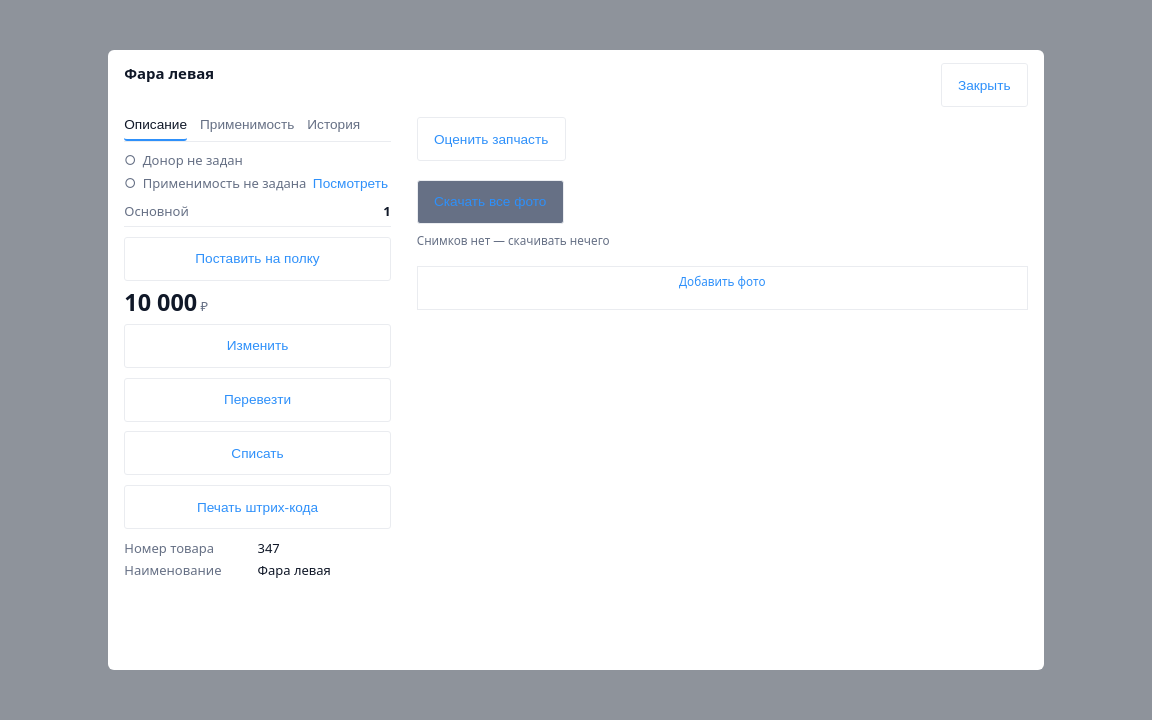
«Движение товара» и удаление документа › карточка: «Удалить» в «Движении товара» зовёт сервер, лента перечитывается, итог назван
Click the button "История" at (334, 129), box 307,117 -> 360,141
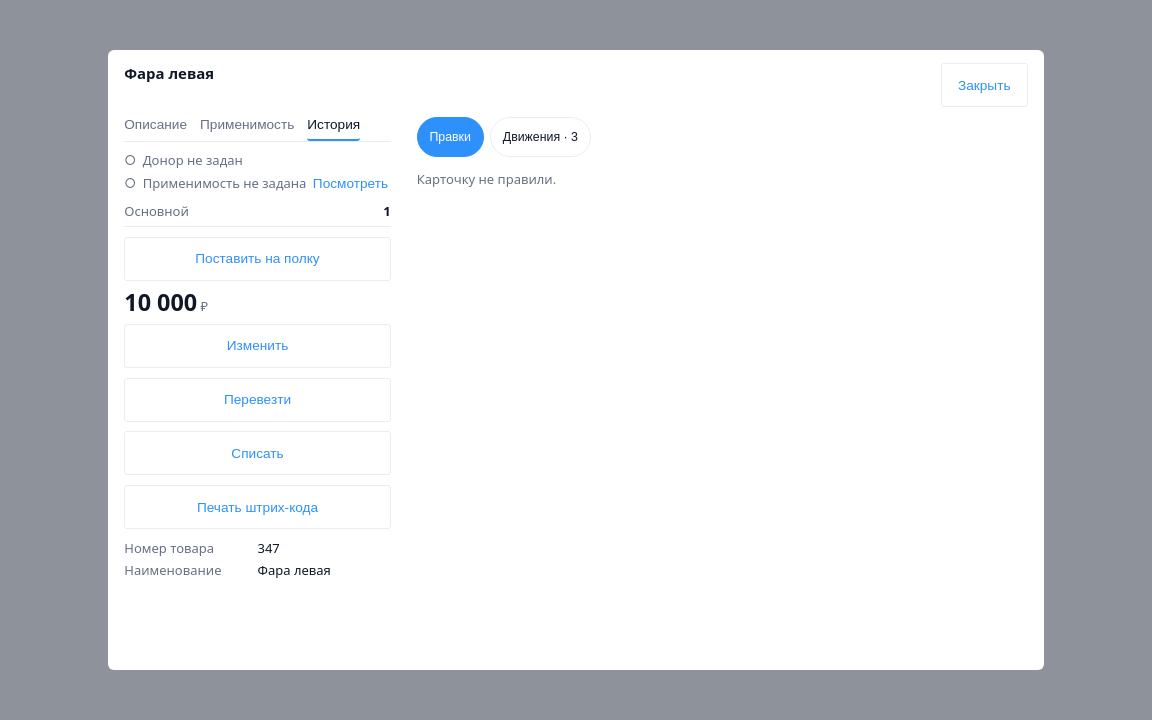
Click the button "Движения · 3" at (540, 137), box 490,117 -> 591,157
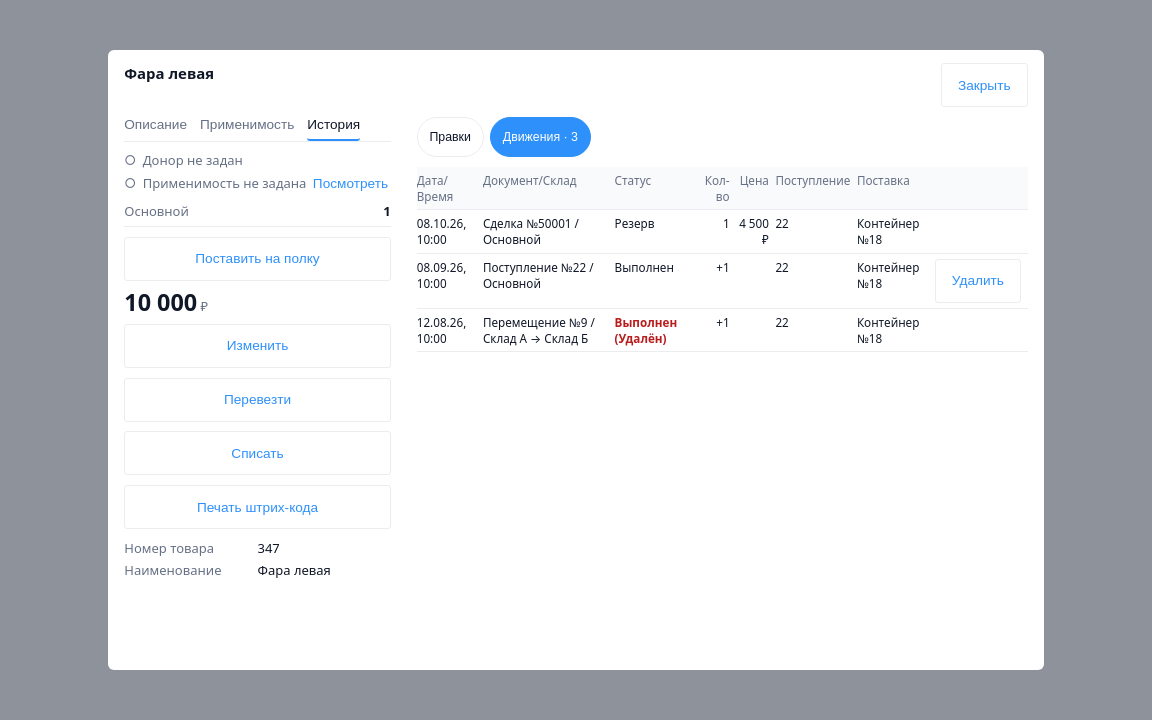
Click the button with aria-label "Удалить: Поступление №22" at (978, 281), box 935,259 -> 1021,303
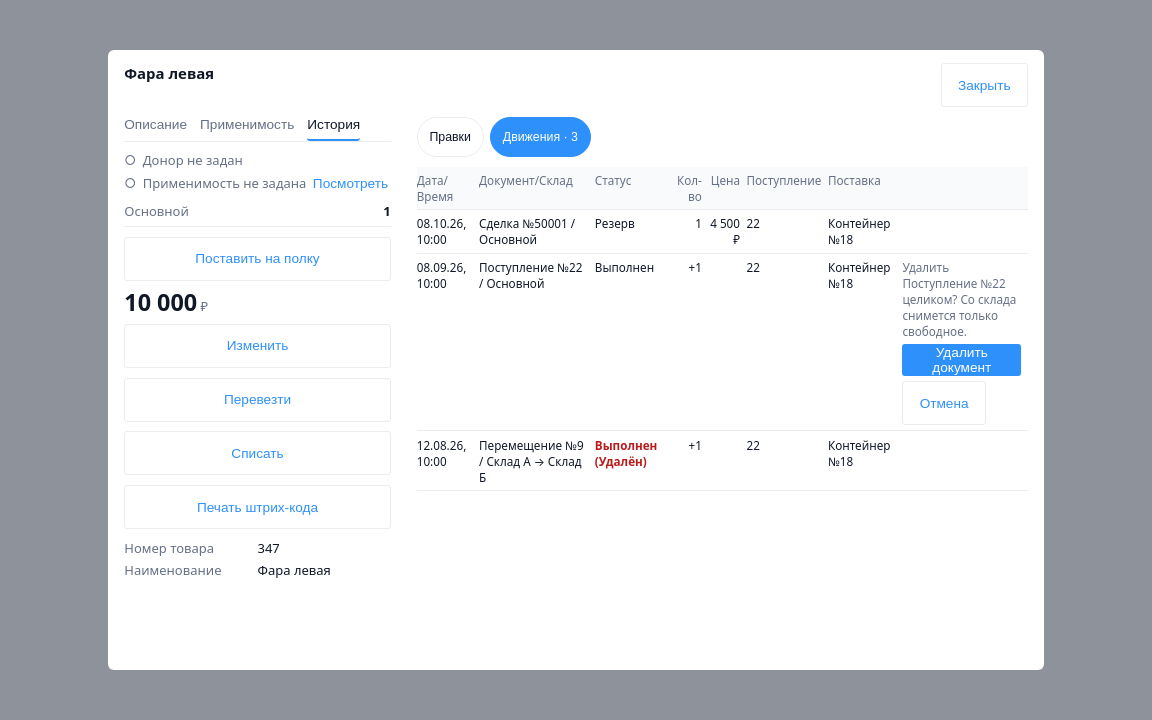
Click the button "Удалить документ" at (962, 360), box 902,344 -> 1021,376
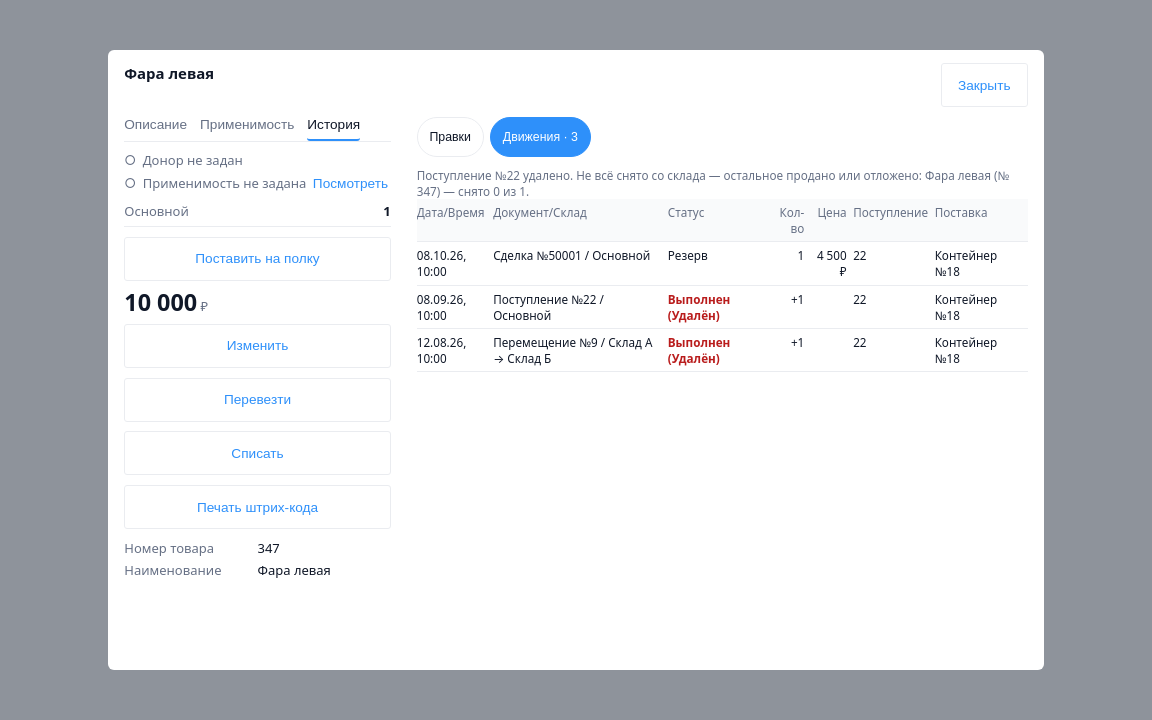
Result: the text "Поступление №22 удалено. Не всё снято" is shown at 417,167 -> 1009,199
Result: the text "Выполнен (Удалён)" is shown 2 times at 668,285 -> 771,329; 668,328 -> 771,372
